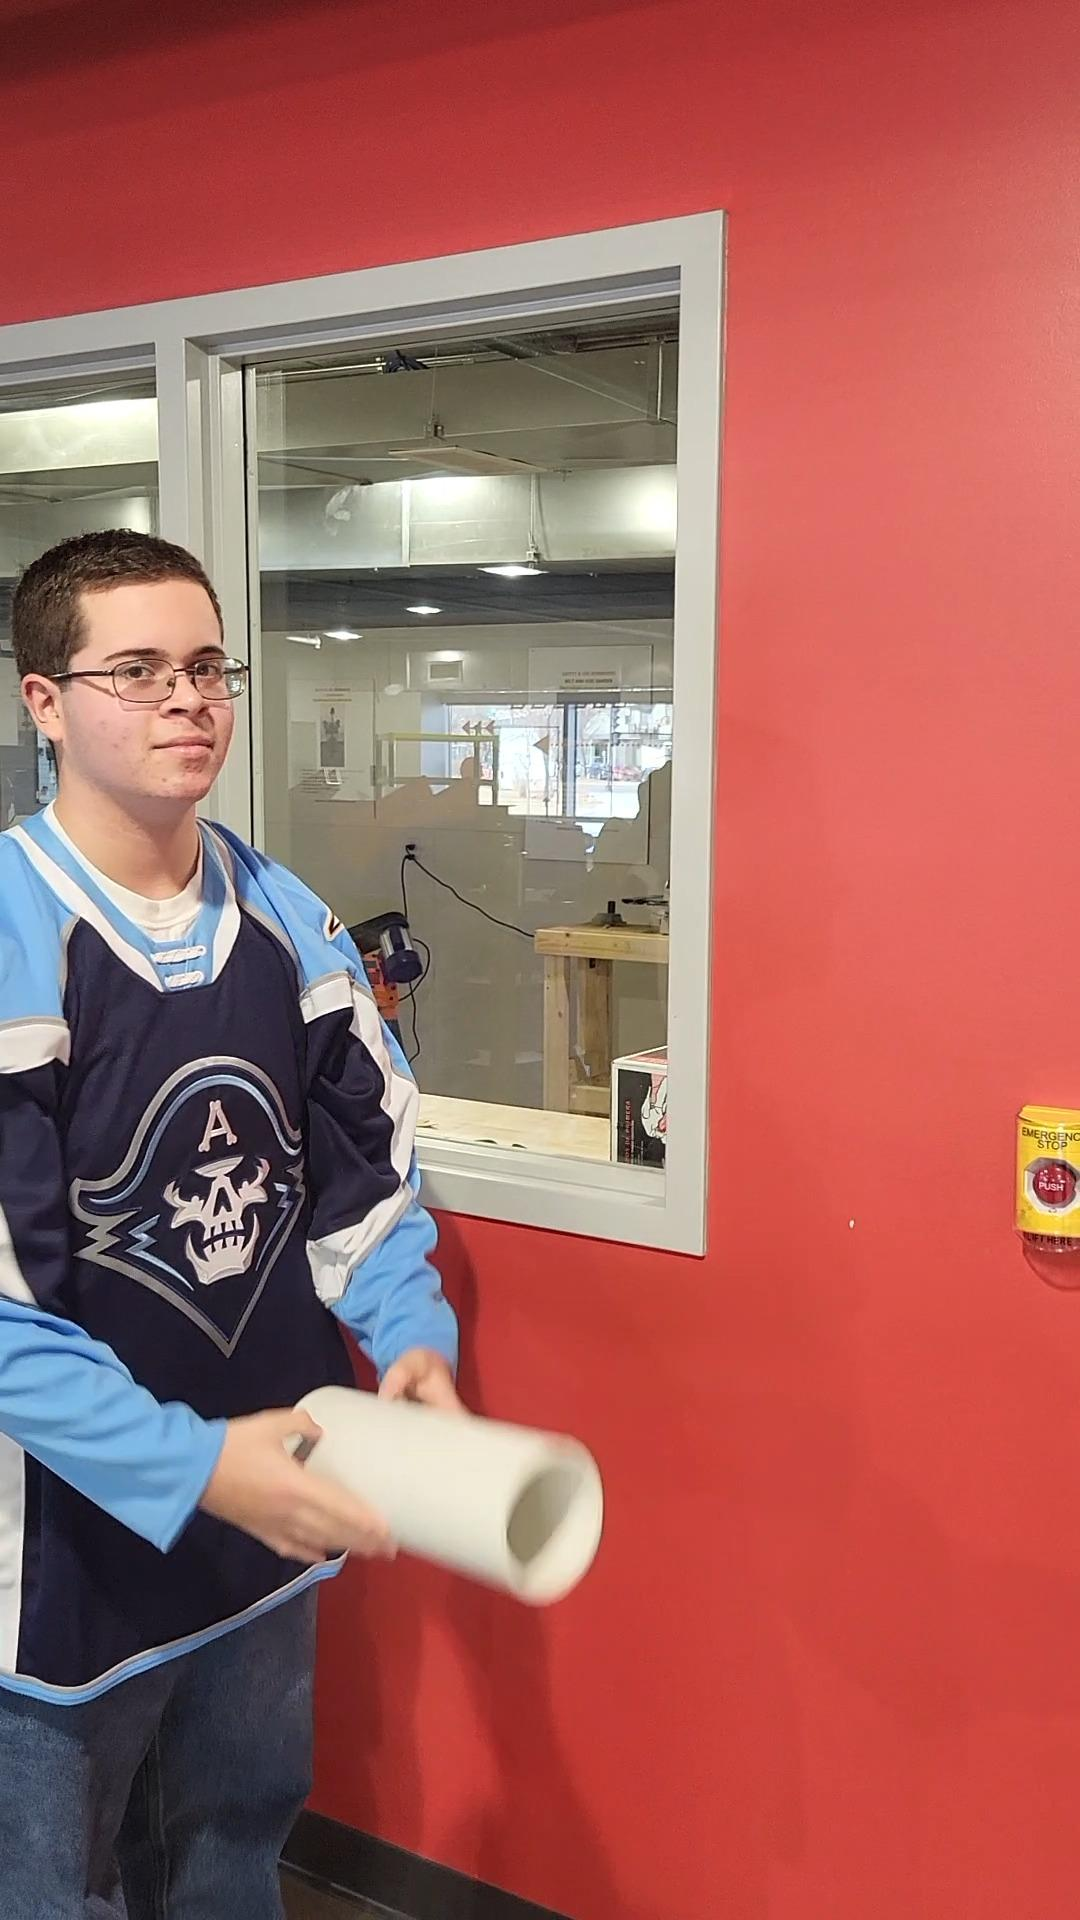coral: (273, 1381, 620, 1617)
